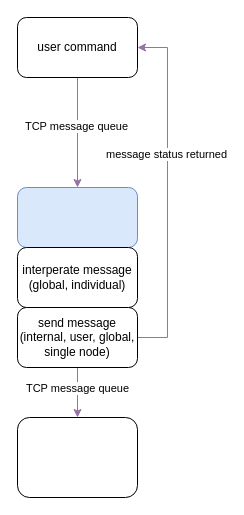
Some shapes in this 244 by 515 pixel diagram are drawn without their labels. Here are the shapes that lost their labels. From the top down, the centre of each, then its label:
point 77,217: control node
point 77,457: target (could be internal to control node, DAQ, or user terminal)
